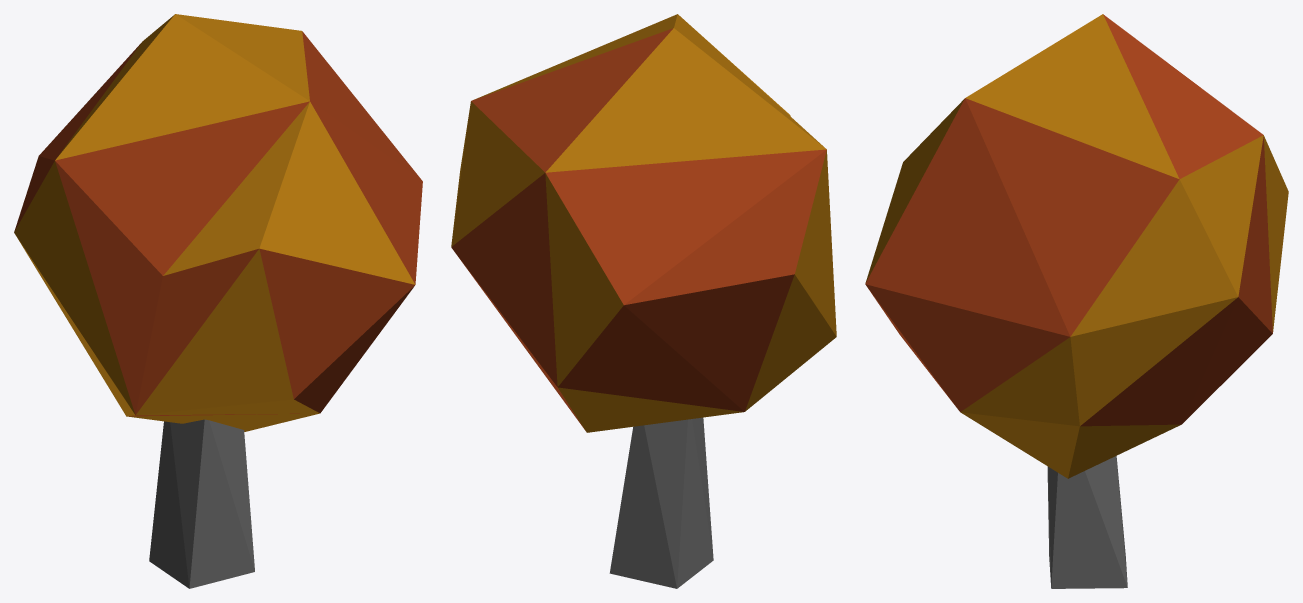
File: Tree1_M2_2_small.fbx
3 renders of one model, left to right at view 1: azimuth 30°, elevation 25°; view 2: azimuth 150°, elevation 25°; view 3: azimuth 270°, elevation 25°, orthographic.
Parts seen in each view (by area): view 1: Tree1_M2_2_small; view 2: Tree1_M2_2_small; view 3: Tree1_M2_2_small.
Part boxes in pixels (x1,y1,x2,y2): Tree1_M2_2_small: [14, 14, 422, 588]; Tree1_M2_2_small: [451, 14, 836, 588]; Tree1_M2_2_small: [865, 14, 1288, 588].
Bounding box in the file's own units: 57.41 × 81.26 × 56.84.
